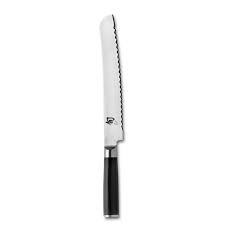knife: (98, 12, 125, 220)
